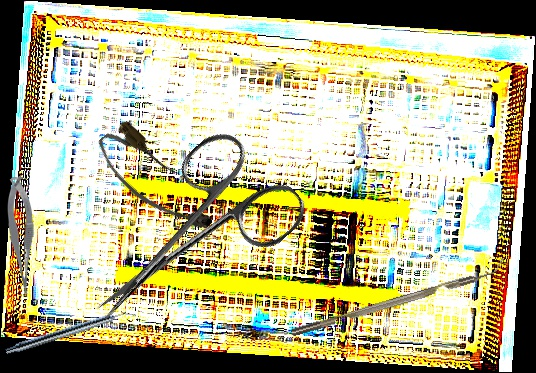Cannula: (89, 116, 220, 249)
Chopper: (287, 257, 509, 337)
Handpiece: (4, 305, 137, 359)
Iris Scissors: (60, 117, 314, 364)
Micro Scissor: (5, 176, 35, 297)
